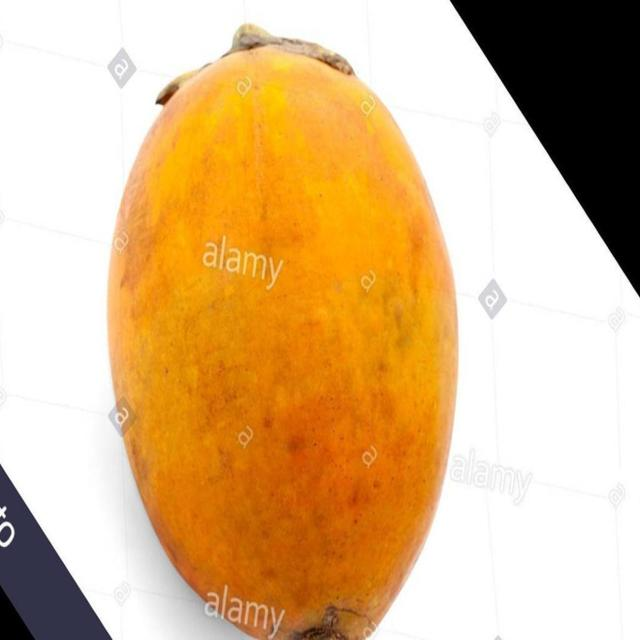good: (106, 40, 460, 639)
